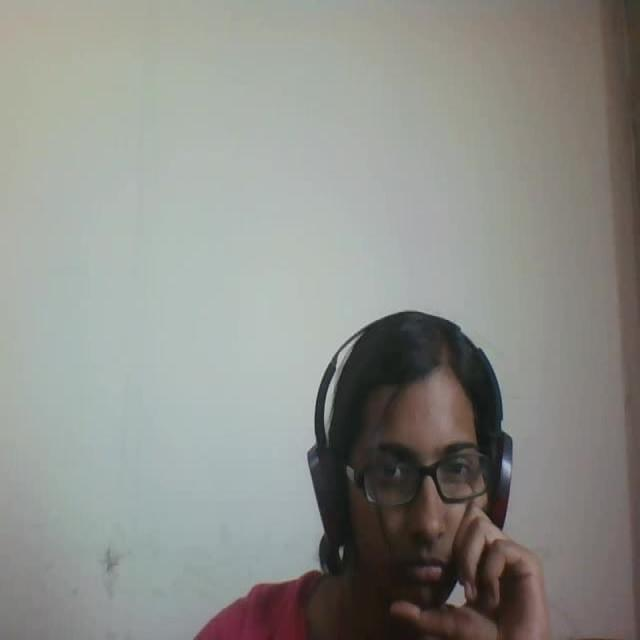Bored: (282, 290, 558, 624)
